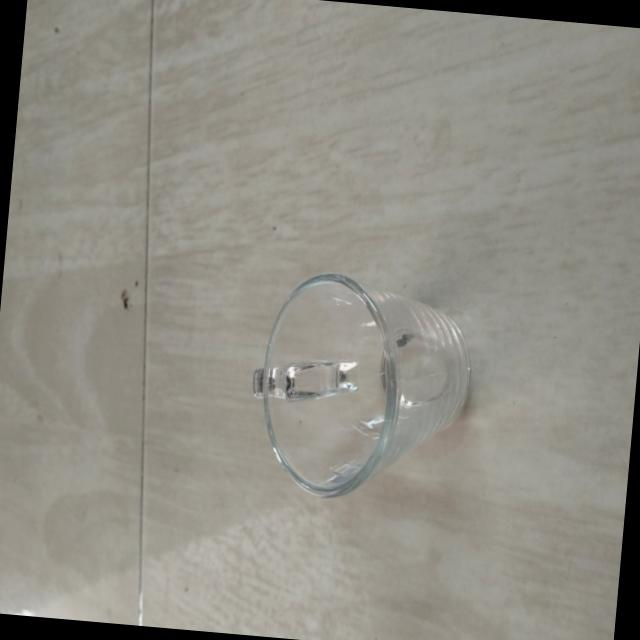glass-VX4N: (240, 266, 500, 514)
